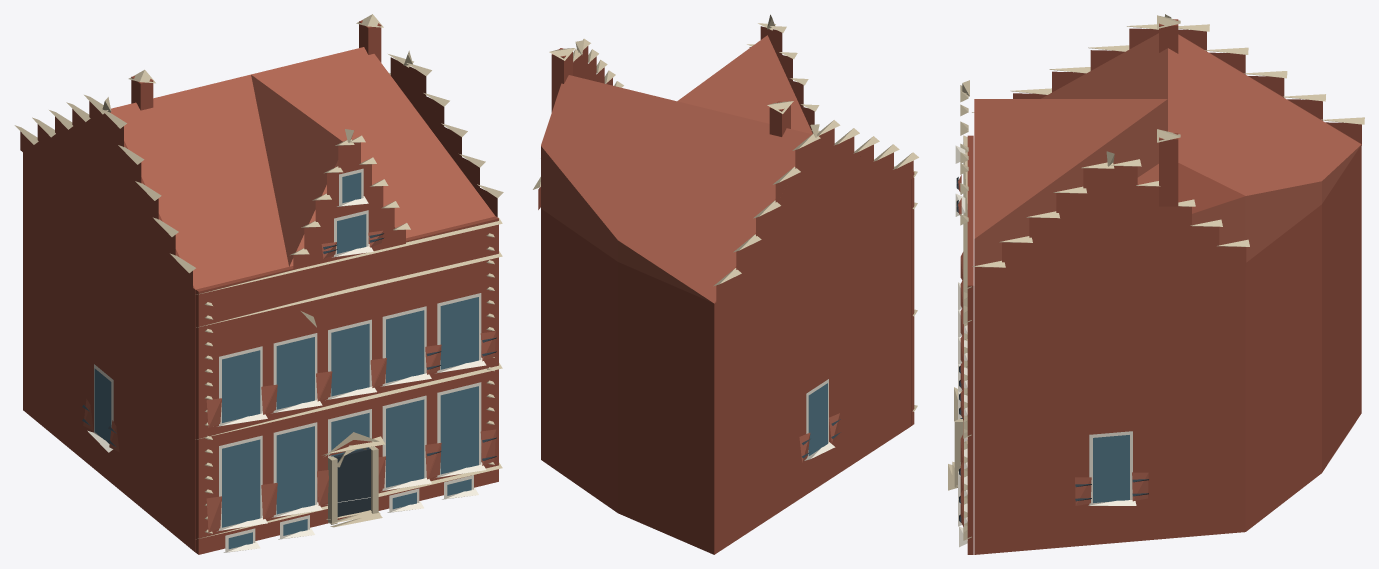
The model's file is huis-aan-drie-grachten.lod1.glb.
3 renders of one model, left to right at view 1: azimuth 30°, elevation 25°; view 2: azimuth 150°, elevation 25°; view 3: azimuth 270°, elevation 25°, orthographic. The views are drawn at different scales.
Visible parts, largest first — view 1: huis-aan-drie-grachten; view 2: huis-aan-drie-grachten; view 3: huis-aan-drie-grachten.
Part boxes in pixels (<box>): huis-aan-drie-grachten: <box>14,14,503,554</box>; huis-aan-drie-grachten: <box>533,14,918,554</box>; huis-aan-drie-grachten: <box>948,14,1364,554</box>.
Bounding box in the file's own units: 13.56 × 16.5 × 15.17.
